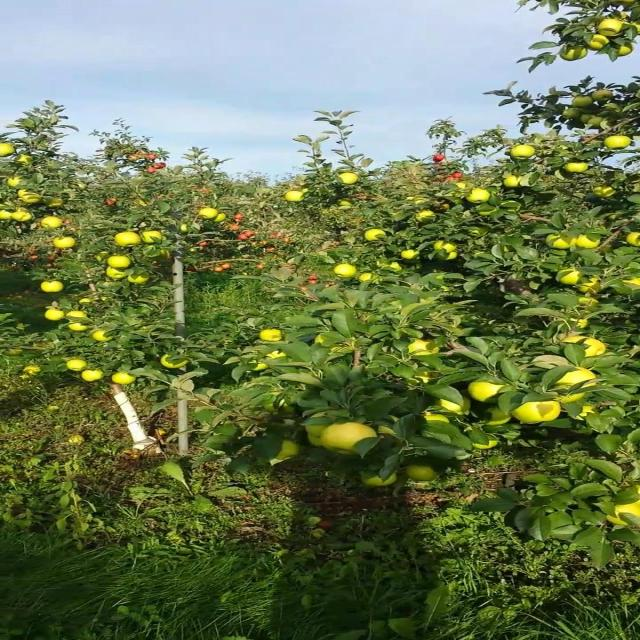apple: (326, 424, 377, 456), (554, 368, 599, 404), (511, 400, 562, 424), (468, 380, 512, 404), (561, 336, 608, 358), (575, 336, 608, 358), (255, 352, 288, 372), (404, 464, 441, 481), (305, 416, 336, 436), (362, 472, 400, 488), (440, 398, 473, 415), (483, 408, 512, 426), (412, 340, 444, 356), (596, 20, 626, 37), (276, 440, 300, 461), (604, 136, 633, 152), (319, 336, 348, 352), (561, 268, 585, 286), (262, 352, 288, 368), (561, 48, 590, 62), (333, 264, 357, 280), (92, 328, 116, 344), (618, 276, 638, 295), (575, 236, 604, 249), (589, 36, 612, 52), (120, 232, 142, 248), (163, 356, 190, 369), (547, 236, 574, 248), (276, 400, 297, 415), (511, 148, 537, 160), (433, 240, 459, 252), (412, 372, 436, 385), (582, 280, 604, 294), (376, 260, 404, 271), (426, 412, 450, 424), (42, 280, 64, 293), (113, 372, 135, 385), (468, 192, 491, 204), (141, 232, 164, 244), (340, 172, 363, 184), (20, 192, 43, 204), (113, 256, 135, 268), (56, 236, 78, 248), (198, 208, 220, 220), (106, 268, 128, 280), (476, 440, 500, 451), (561, 108, 583, 120), (476, 204, 498, 216), (561, 108, 583, 120), (504, 176, 526, 188), (312, 432, 327, 449), (84, 372, 107, 383), (596, 188, 619, 199), (575, 96, 596, 108), (284, 192, 306, 203), (262, 332, 284, 343), (383, 260, 405, 271), (504, 176, 524, 188), (582, 404, 599, 418), (70, 360, 89, 372), (440, 248, 459, 260), (625, 232, 639, 248), (15, 212, 34, 223), (419, 212, 436, 224), (589, 116, 606, 128), (604, 104, 624, 114), (42, 220, 64, 229), (568, 164, 590, 173), (440, 252, 462, 261), (618, 44, 633, 57), (312, 436, 327, 449), (468, 228, 491, 236), (369, 232, 389, 241), (127, 276, 149, 284), (596, 92, 615, 101), (70, 324, 91, 332), (70, 312, 91, 320), (362, 272, 377, 283), (412, 196, 432, 204), (412, 196, 432, 204), (582, 116, 601, 124), (6, 180, 23, 188), (591, 116, 603, 127), (404, 252, 420, 260), (20, 156, 36, 164), (212, 216, 228, 224), (49, 312, 64, 320), (49, 200, 64, 208), (454, 184, 471, 191), (340, 200, 354, 208), (28, 368, 43, 375), (127, 156, 142, 163), (433, 156, 448, 163), (77, 300, 94, 306), (6, 144, 14, 156), (392, 264, 405, 271), (440, 204, 453, 211), (184, 224, 192, 232), (621, 4, 628, 7)
